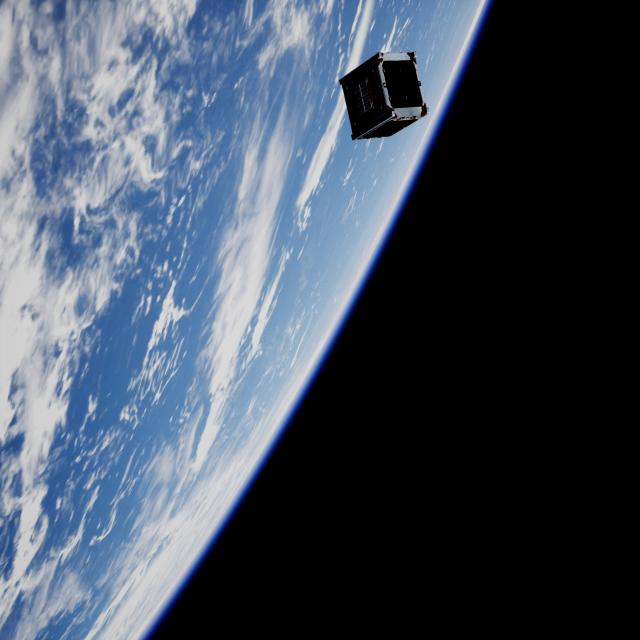satellite: (340, 45, 438, 139)
